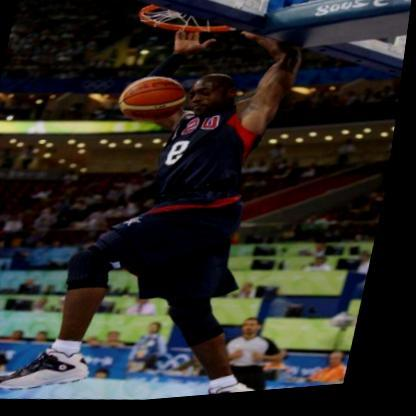basketball: (116, 74, 192, 131)
